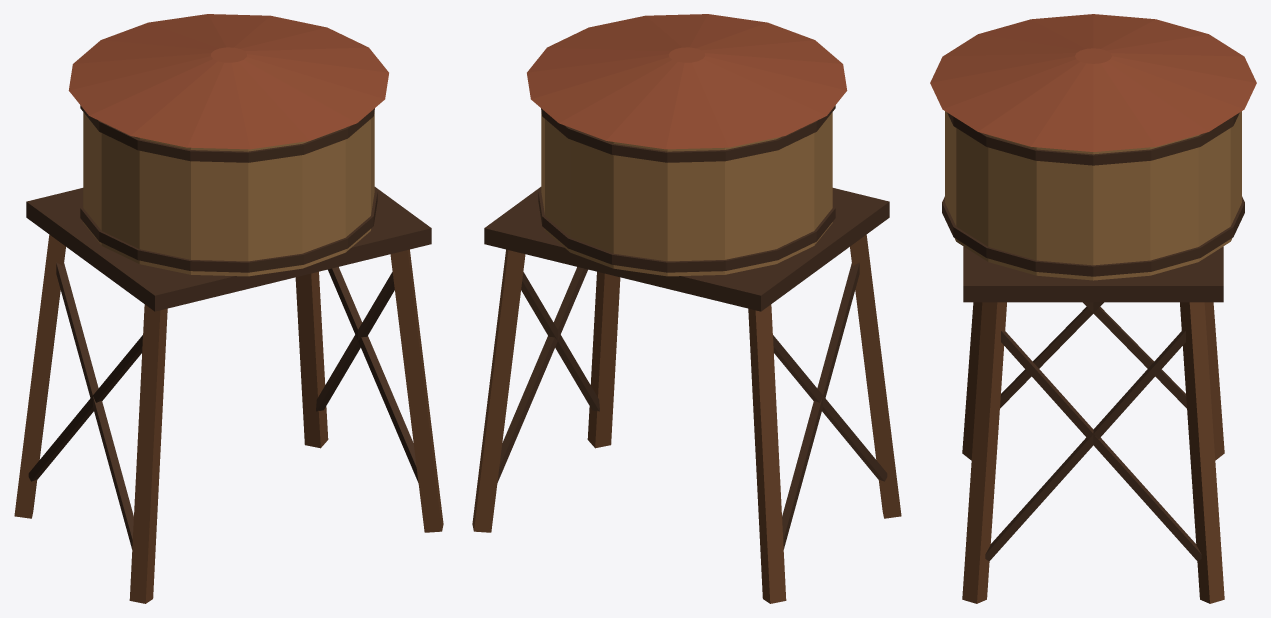
Rendered from Desert_WaterTowerGate_Standard.glb.
3 renders of one model, left to right at view 1: azimuth 30°, elevation 25°; view 2: azimuth 150°, elevation 25°; view 3: azimuth 270°, elevation 25°, orthographic.
Visible parts, largest first — view 1: Desert_WaterTowerGate_Standard; view 2: Desert_WaterTowerGate_Standard; view 3: Desert_WaterTowerGate_Standard.
Part boxes in pixels (x1=…): Desert_WaterTowerGate_Standard: x1=14, y1=14, x2=443, y2=603; Desert_WaterTowerGate_Standard: x1=472, y1=14, x2=901, y2=603; Desert_WaterTowerGate_Standard: x1=930, y1=14, x2=1256, y2=603.
Size of the model in its own units: 4.93 by 7.01 by 4.4.
